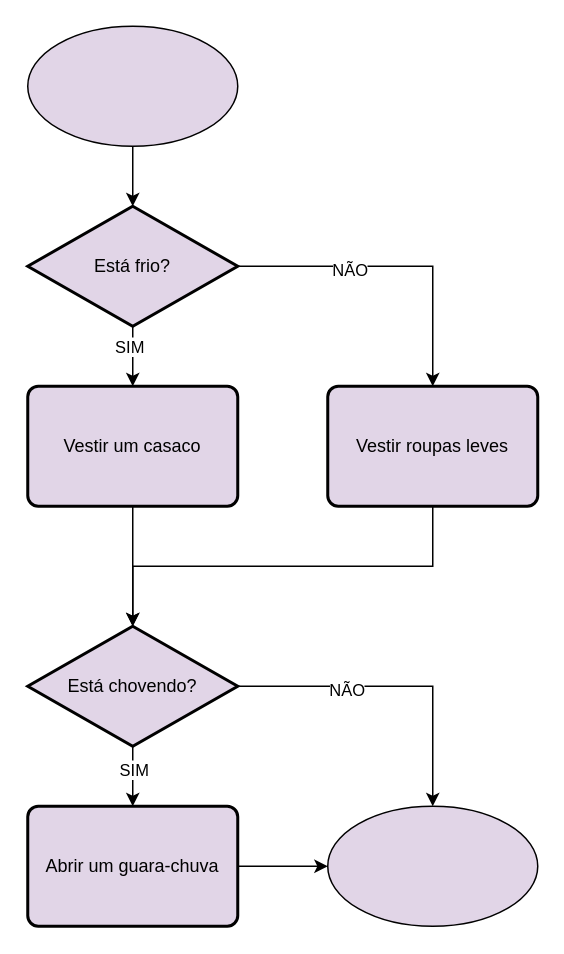
The diagram is 564 pixels wide and 954 high, and some of its shapes have lost their labels. Here are the shapes that lost their labels. From the top down, the centre of each, then its label:
point 132,85: INÍCIO
point 432,865: TÉRMINO
